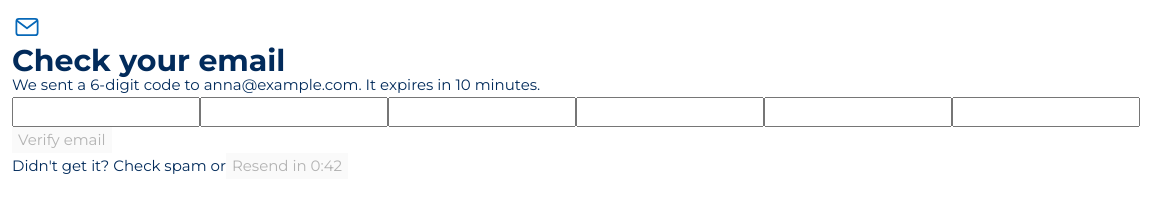
Scenario: VerifyEmailForm › marks the code as invalid when it is rejected
Click the field named "Verification code, digit 1 of 6".
click(106, 112)  # box [12,97,200,127]
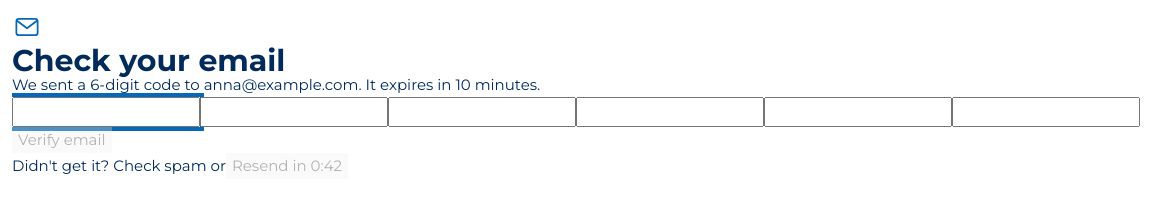
Type keys "481902"
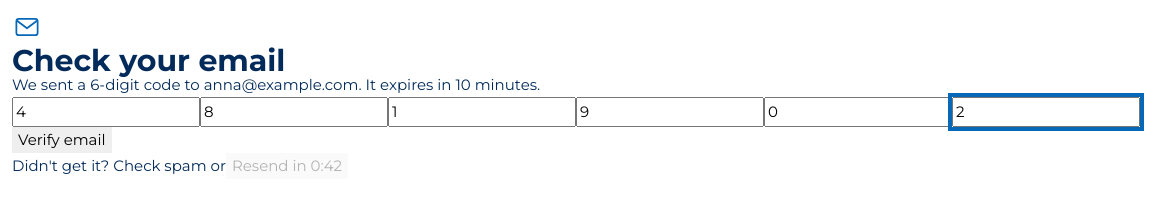
Click the button "Verify email".
click(62, 140)  # box [12,127,112,153]
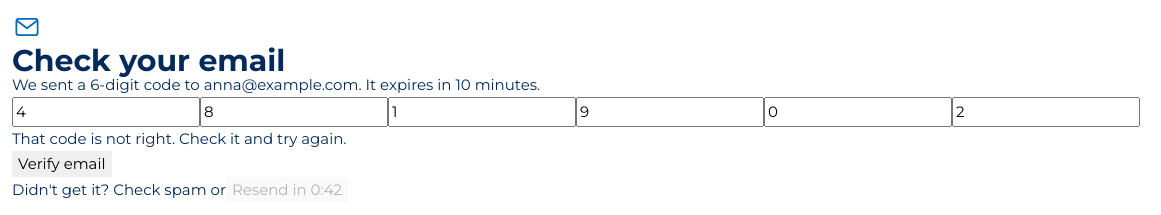
Check: the text "That code is not right. Check it and try again." is shown, box [12,129,346,148]
